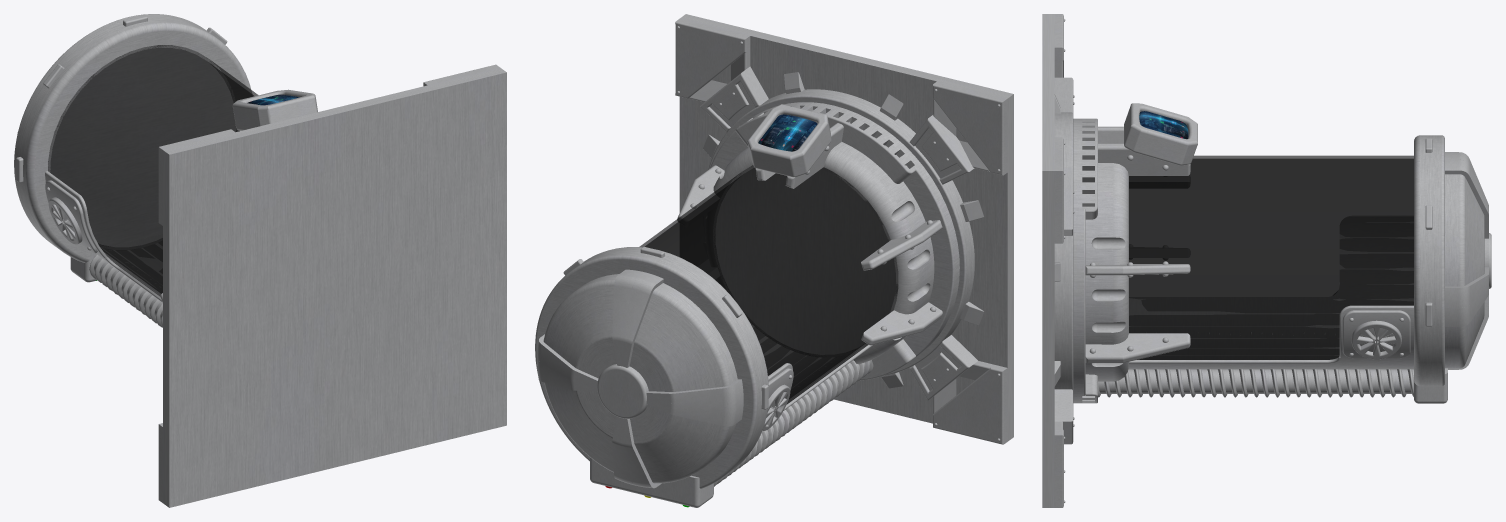
Rendered from INCUBATEUR_KATY_PERRY_TEXTURE_CHANGED.fbx.
3 renders of one model, left to right at view 1: azimuth 30°, elevation 25°; view 2: azimuth 150°, elevation 25°; view 3: azimuth 270°, elevation 25°, orthographic. The views are drawn at different scales.
Visible parts, largest first — view 1: Object_6, Object_68, Layer 01, Object_90, Object_103, Object_66, Object_95, Object_96, Object_84, Object_129, Object_67; view 2: Object_46, Layer 01, Object_6, Object_69, Object_68, Object_106, Object_109, Object_129, Object_130, Object_131, Object_103, Object_104 (+23 smaller); view 3: Layer 01, Object_90, Object_46, Object_68, Object_6, Object_69, Object_65, Object_64, Object_106, Object_109, Object_103, Object_100 (+17 smaller).
Part boxes in pixels (<box>): Object_6: <box>163,67,506,507</box>; Object_68: <box>14,14,251,262</box>; Layer 01: <box>48,45,257,295</box>; Object_90: <box>45,171,162,302</box>; Object_103: <box>232,89,317,130</box>; Object_66: <box>89,255,162,327</box>; Object_95: <box>45,180,97,253</box>; Object_96: <box>48,197,82,244</box>; Object_84: <box>70,234,162,282</box>; Object_129: <box>158,129,234,225</box>; Object_67: <box>94,257,162,321</box>; Object_46: <box>705,142,934,364</box>; Layer 01: <box>639,165,898,403</box>; Object_6: <box>679,14,1013,441</box>; Object_69: <box>543,274,737,483</box>; Object_68: <box>535,247,768,488</box>; Object_106: <box>703,102,959,356</box>; Object_109: <box>708,89,974,376</box>; Object_129: <box>933,81,1007,175</box>; Object_130: <box>675,18,750,98</box>; Object_131: <box>933,365,1007,444</box>; Object_103: <box>747,104,831,177</box>; Object_104: <box>735,106,915,183</box>; Layer 01: <box>1129,155,1413,359</box>; Object_90: <box>1129,216,1413,369</box>; Object_46: <box>1085,163,1128,381</box>; Object_68: <box>1414,135,1444,386</box>; Object_6: <box>1042,14,1054,507</box>; Object_69: <box>1445,174,1484,368</box>; Object_65: <box>1098,369,1413,393</box>; Object_64: <box>1098,369,1413,397</box>; Object_106: <box>1073,118,1085,403</box>; Object_109: <box>1054,112,1073,390</box>; Object_103: <box>1124,103,1197,165</box>; Object_100: <box>1085,333,1190,362</box>.
Bounding box in the file's own units: 10 × 12.1 × 10.
Materials: 6 (2 with a texture image).
